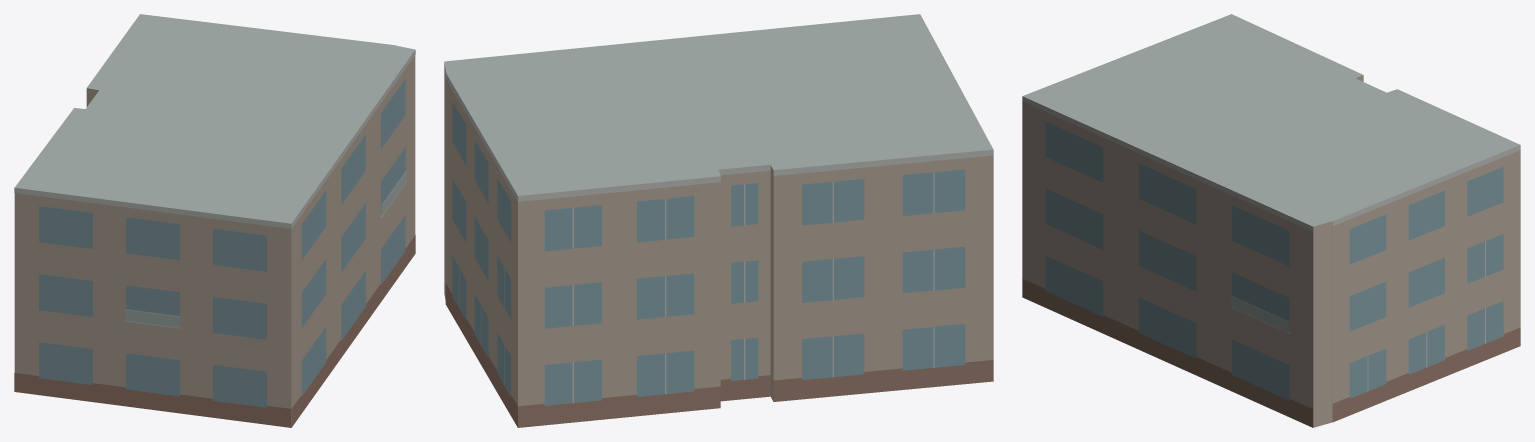
The model's file is survey-upis-32960662.glb.
3 renders of one model, left to right at view 1: azimuth 30°, elevation 25°; view 2: azimuth 150°, elevation 25°; view 3: azimuth 270°, elevation 25°, orthographic. The views are drawn at different scales.
Visible parts, largest first — view 1: survey-upis-32960662.tmp; view 2: survey-upis-32960662.tmp; view 3: survey-upis-32960662.tmp.
Boxes of the visible parts, bbox=[...] form: survey-upis-32960662.tmp: bbox=[14, 14, 415, 427]; survey-upis-32960662.tmp: bbox=[444, 14, 993, 427]; survey-upis-32960662.tmp: bbox=[1022, 14, 1520, 427].
Size of the model in its own units: 21.78 by 9.6 by 21.56.
